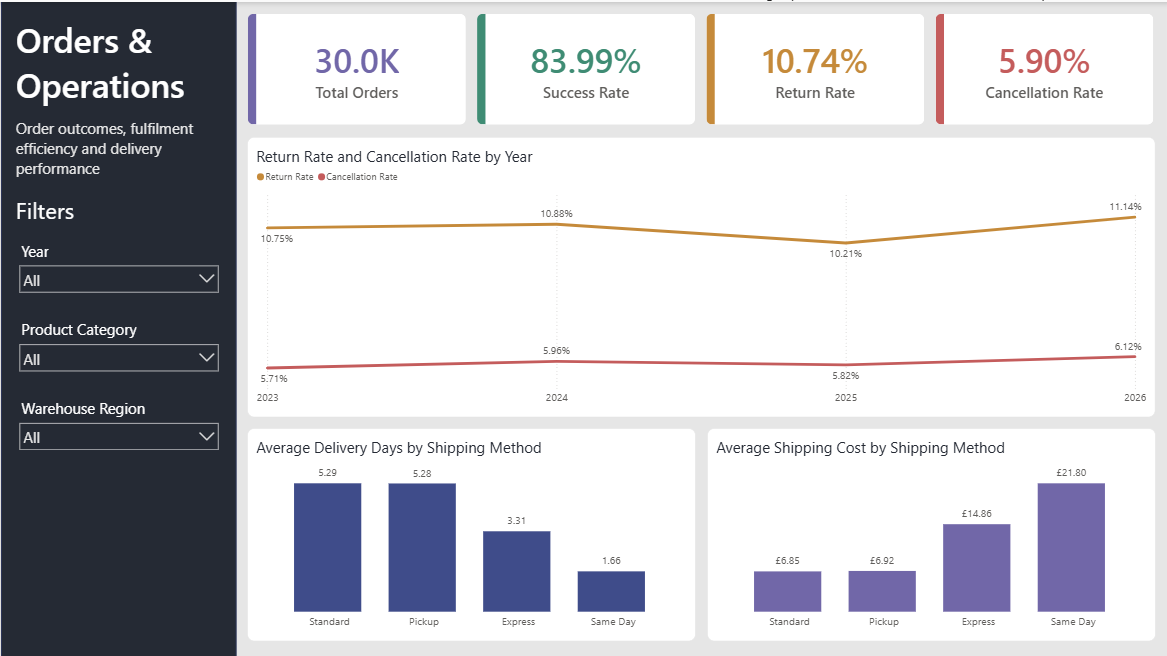

What the dashboard file says about the page in this screenshot:
{"tool":"powerbi","page":{"name":"Orders & Operations","canvas":[1664,936],"ordinal":3},"visuals":[{"type":"cardVisual","fields":{"Data":["Measures (3).Total Orders","Measures (3).Success Rate","Measures (3).Return Rate","Measures (3).Cancellation Rate"]},"box":[336,0,1328,192],"z":0},{"type":"shape","box":[0,-8,336,944],"z":1000},{"type":"textbox","box":[16,16,304,144],"z":2000},{"type":"textbox","box":[16,160,304,112],"z":4000},{"type":"clusteredColumnChart","title":"Average Delivery Days by Shipping Method","fields":{"Category":["fact_orders.shipping_method"],"Y":["Measures (3).Average Delivery Days"]},"box":[352,608,640,304],"z":5000},{"type":"slicer","title":"Filters","fields":{"Values":["dim_date.year"]},"box":[16,336,304,96],"z":7000},{"type":"slicer","title":"Filters","fields":{"Values":["fact_orders.warehouse_region"]},"box":[16,560,304,96],"z":8000},{"type":"slicer","title":"Filters","fields":{"Values":["fact_orders.product_category"]},"box":[16,448,304,96],"z":9000},{"type":"textbox","box":[16,272,128,80],"z":10000},{"type":"lineChart","title":"Return Rate and Cancellation Rate by Year","fields":{"Category":["dim_date.year"],"Y":["Measures (3).Return Rate","Measures (3).Cancellation Rate"]},"box":[352,192,1296,400],"z":10001},{"type":"clusteredColumnChart","title":"Average Shipping Cost by Shipping Method","fields":{"Category":["fact_orders.shipping_method"],"Y":["Measures (3).Average Shipping Cost"]},"box":[1008,608,640,304],"z":10002}]}

Visuals, with their boxes in screenshot pixels (x1, y1, x2, y2), scaled from the page's 1664x936 canvas onto the 1167x656 screenshot:
cardVisual - Measures (3).Total Orders x Measures (3).Success Rate: crop(236, 0, 1166, 135)
shape: crop(0, 0, 236, 655)
textbox: crop(11, 11, 224, 112)
textbox: crop(11, 112, 224, 191)
"Average Delivery Days by Shipping Method" clusteredColumnChart: crop(247, 426, 696, 639)
"Filters" slicer: crop(11, 235, 224, 303)
"Filters" slicer: crop(11, 392, 224, 460)
"Filters" slicer: crop(11, 314, 224, 381)
textbox: crop(11, 191, 101, 247)
"Return Rate and Cancellation Rate by Year" lineChart: crop(247, 135, 1156, 415)
"Average Shipping Cost by Shipping Method" clusteredColumnChart: crop(707, 426, 1156, 639)
